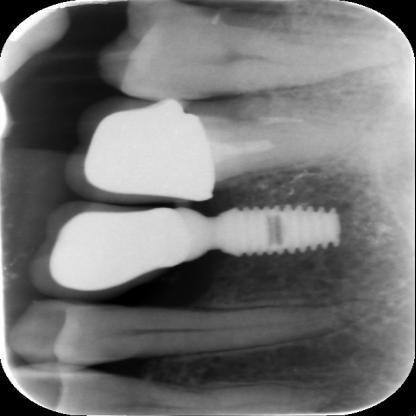Bicon: (210, 203, 342, 257)
